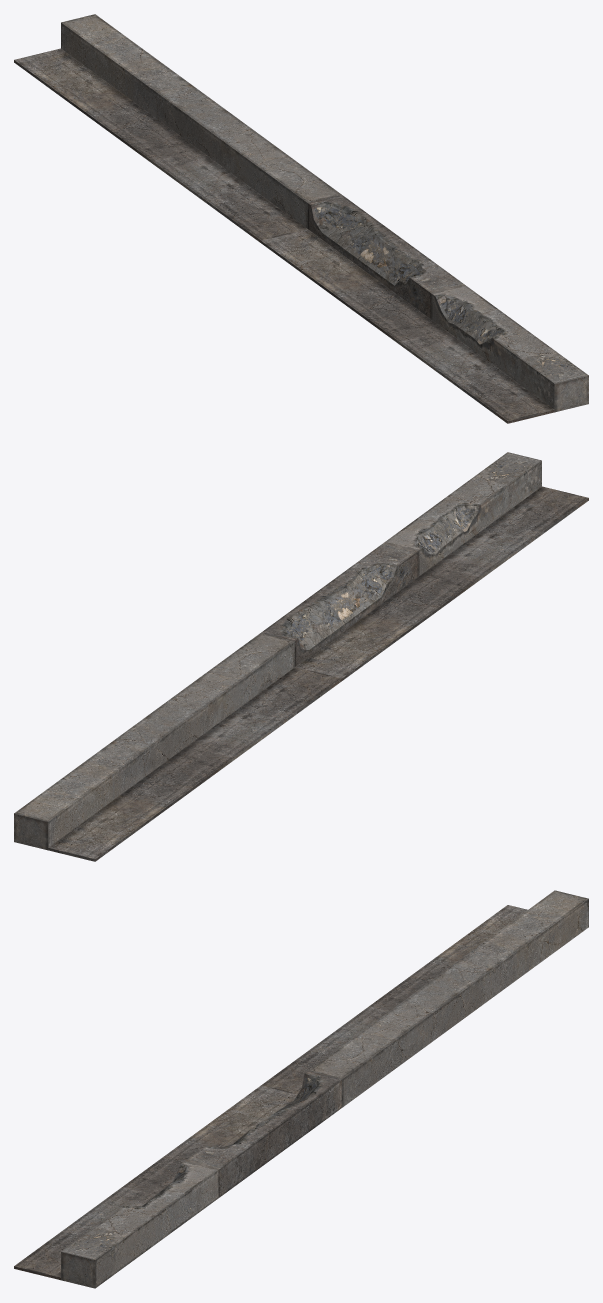
Rendered from CP_Curbstone_4m_03.fbx.
3 views of the same model, one above another, from view 1: azimuth 30°, elevation 25°; view 2: azimuth 150°, elevation 25°; view 3: azimuth 330°, elevation 25° (orthographic).
Parts seen in each view (by area): view 1: CP_Curbstone_4m_03; view 2: CP_Curbstone_4m_03; view 3: CP_Curbstone_4m_03.
Boxes of the visible parts, x1,y1,x2,y2 form: CP_Curbstone_4m_03: [14, 14, 588, 423]; CP_Curbstone_4m_03: [14, 452, 588, 861]; CP_Curbstone_4m_03: [14, 890, 588, 1288].
Bounding box in the file's own units: 38 × 12.77 × 400.
